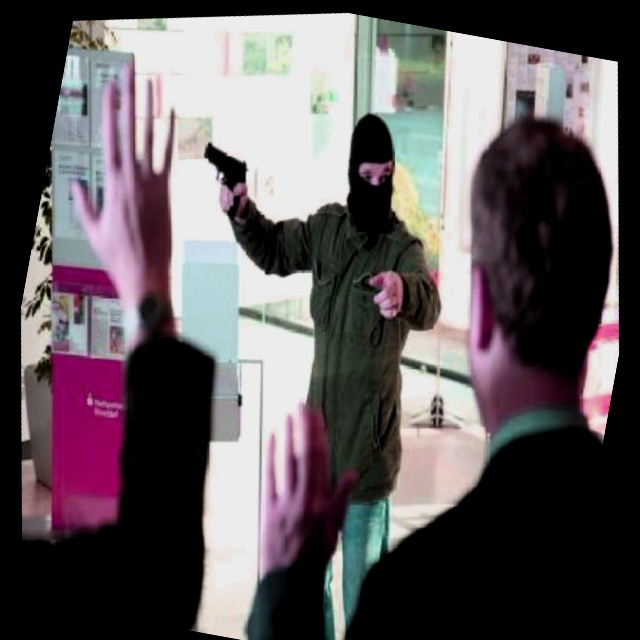gun: (181, 126, 269, 233)
